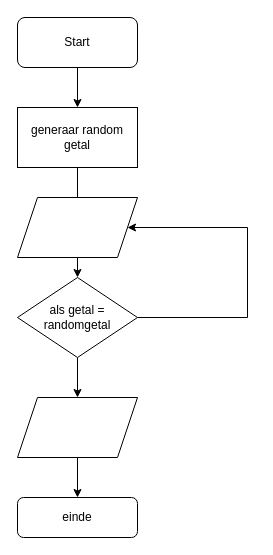
The diagram is 273 pixels wide and 555 high, and some of its shapes have lost their labels. The box of each missing label's shape, as (x1, y1, x2, y2) in pixels:
druk af dat het gedaan is: (16, 396, 138, 458)
vraag getal aan gebruiker: (16, 196, 138, 258)
